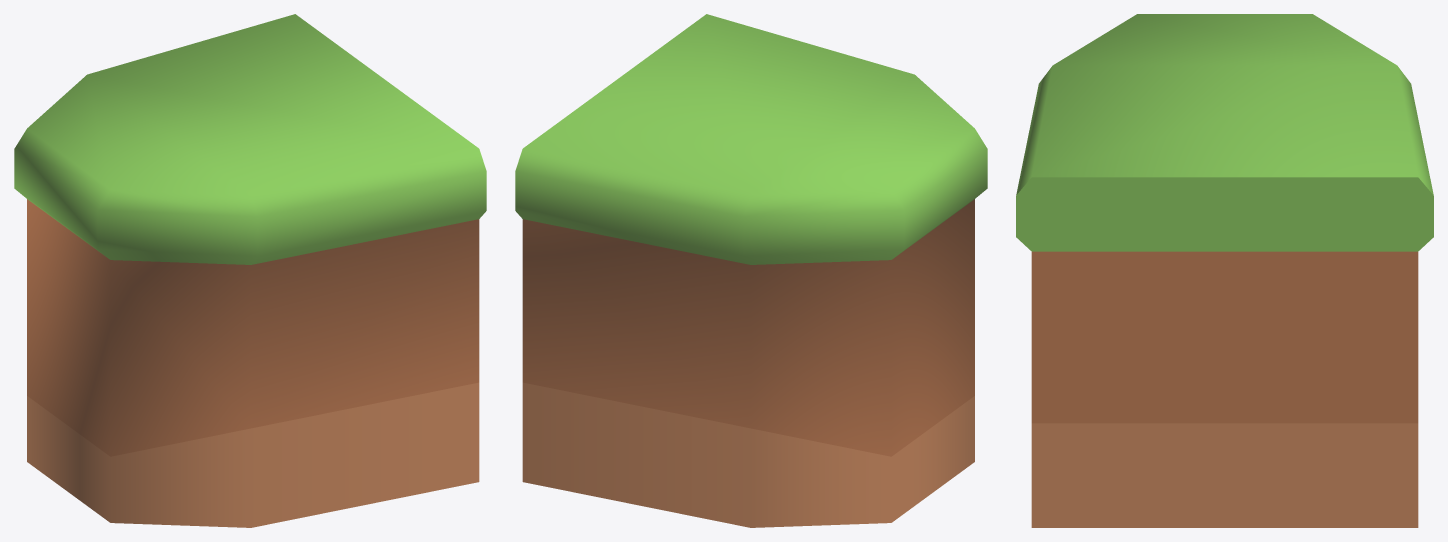
Rendered from normal_tile_top_left.glb.
The picture shows the model from 3 angles, left to right: view 1: azimuth 30°, elevation 25°; view 2: azimuth 150°, elevation 25°; view 3: azimuth 270°, elevation 25°; orthographic projection. The views are drawn at different scales.
Visible parts, largest first — view 1: tile_top_left; view 2: tile_top_left; view 3: tile_top_left.
Boxes of the visible parts, bbox=[...] form: tile_top_left: bbox=[14, 14, 486, 527]; tile_top_left: bbox=[515, 14, 987, 527]; tile_top_left: bbox=[1016, 14, 1433, 527].
Bounding box in the file's own units: 0.52 × 0.5 × 0.54.
